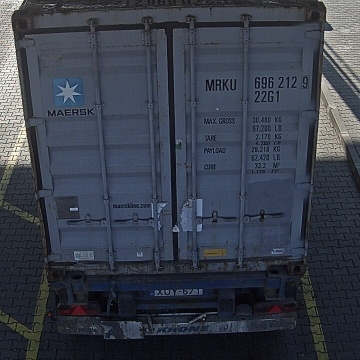serial_id: (204, 76, 309, 91)
